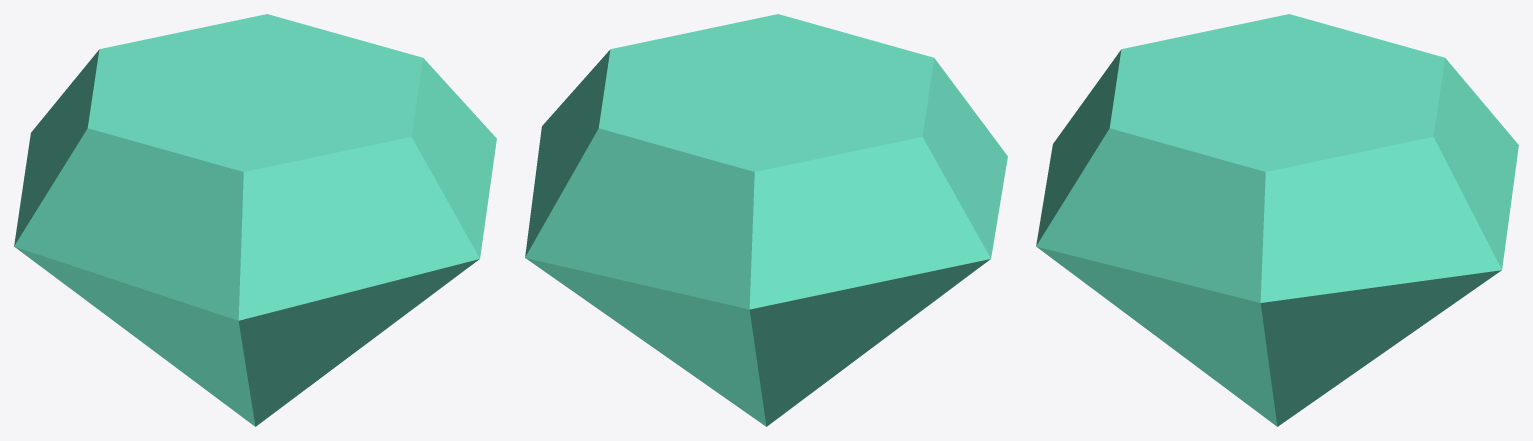
Rendered from Crystal5.glb.
3 renders of one model, left to right at view 1: azimuth 30°, elevation 25°; view 2: azimuth 150°, elevation 25°; view 3: azimuth 270°, elevation 25°, orthographic.
Visible parts, largest first — view 1: Crystal5; view 2: Crystal5; view 3: Crystal5.
Boxes of the visible parts, x1=… form: Crystal5: x1=14, y1=14, x2=496, y2=426; Crystal5: x1=525, y1=14, x2=1007, y2=426; Crystal5: x1=1036, y1=14, x2=1518, y2=426.
Size of the model in its own units: 0.2517 by 0.1723 by 0.2258.
